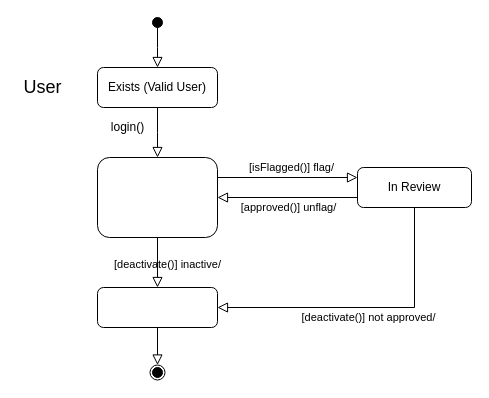
This 489x398 diagram has some shape labels left out. Here are the shapes that lost their labels. From the top down, the box of each, then its label:
(96, 156, 218, 238): Active
(96, 286, 218, 328): Inactive
